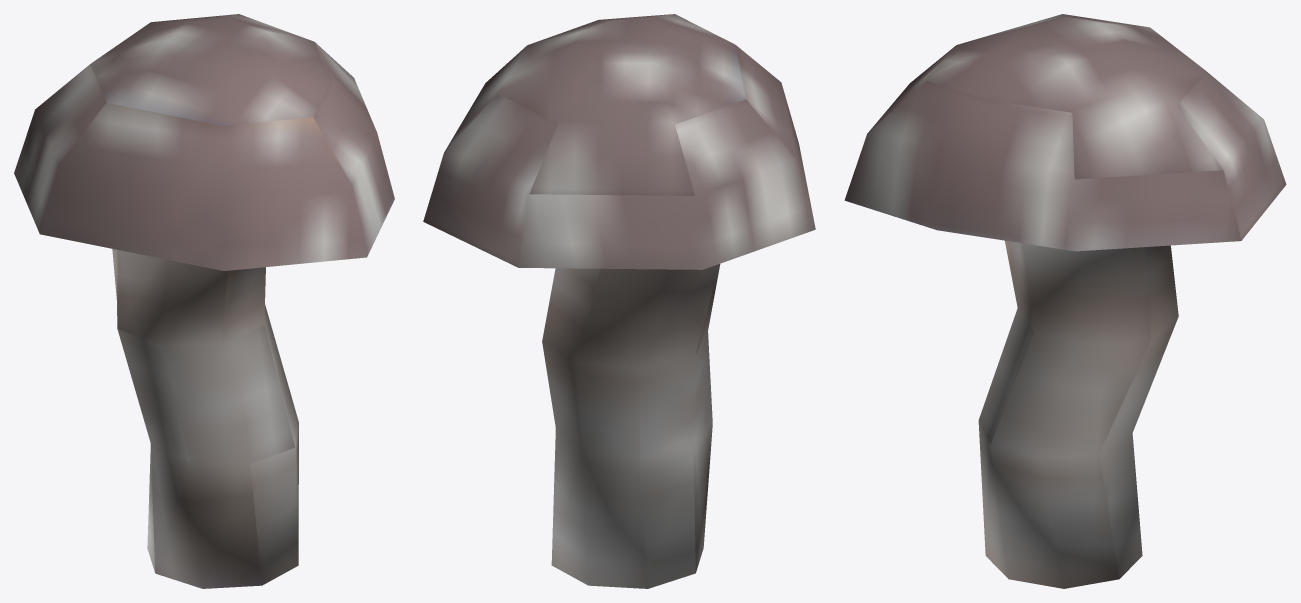
The model's file is CrookedMushroom.fbx.
3 renders of one model, left to right at view 1: azimuth 30°, elevation 25°; view 2: azimuth 150°, elevation 25°; view 3: azimuth 270°, elevation 25°, orthographic.
Parts seen in each view (by area): view 1: petrified_mushroom; view 2: petrified_mushroom; view 3: petrified_mushroom.
Part boxes in pixels (<box>): petrified_mushroom: <box>14,14,394,588</box>; petrified_mushroom: <box>423,14,815,588</box>; petrified_mushroom: <box>844,14,1286,588</box>.
Bounding box in the file's own units: 0.173 × 0.2524 × 0.1961.
